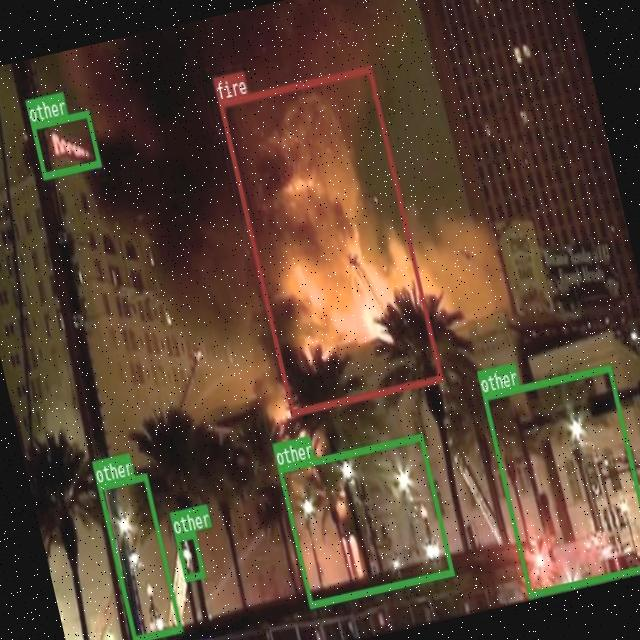fire: (217, 66, 442, 414)
